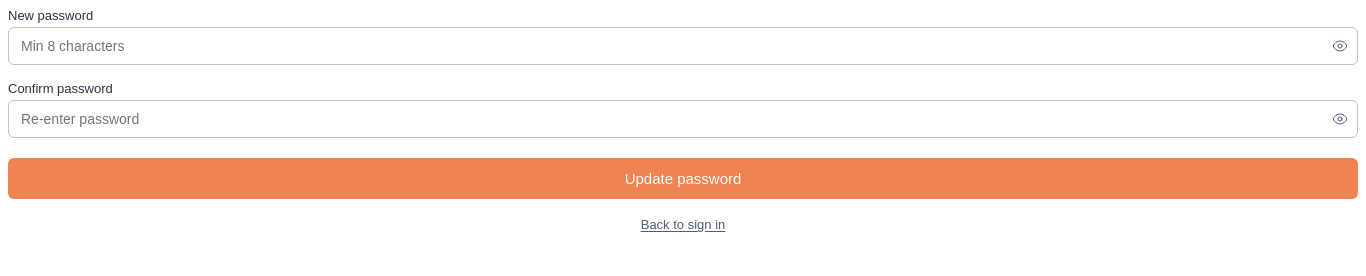
ResetPasswordForm › shows Strong strength for complex password
In the password field labelled "New password": (683, 46) [8,27,1358,65], type "Abcdefghij1!"
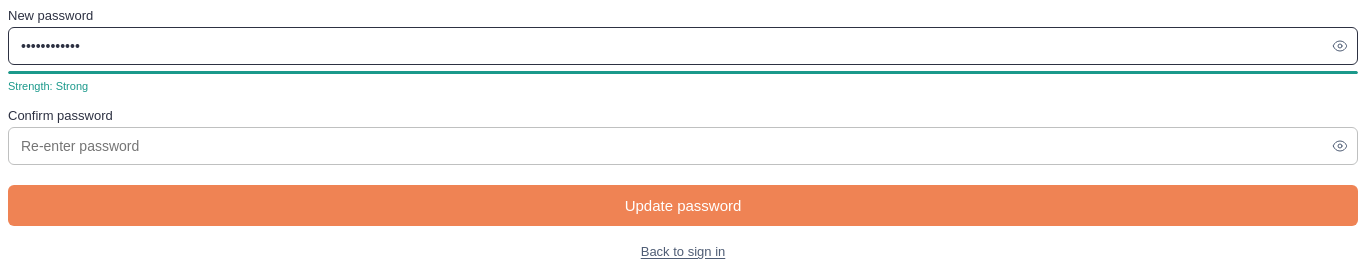
expect the text "Strength: Strong" is shown: met, box [8,80,88,92]
